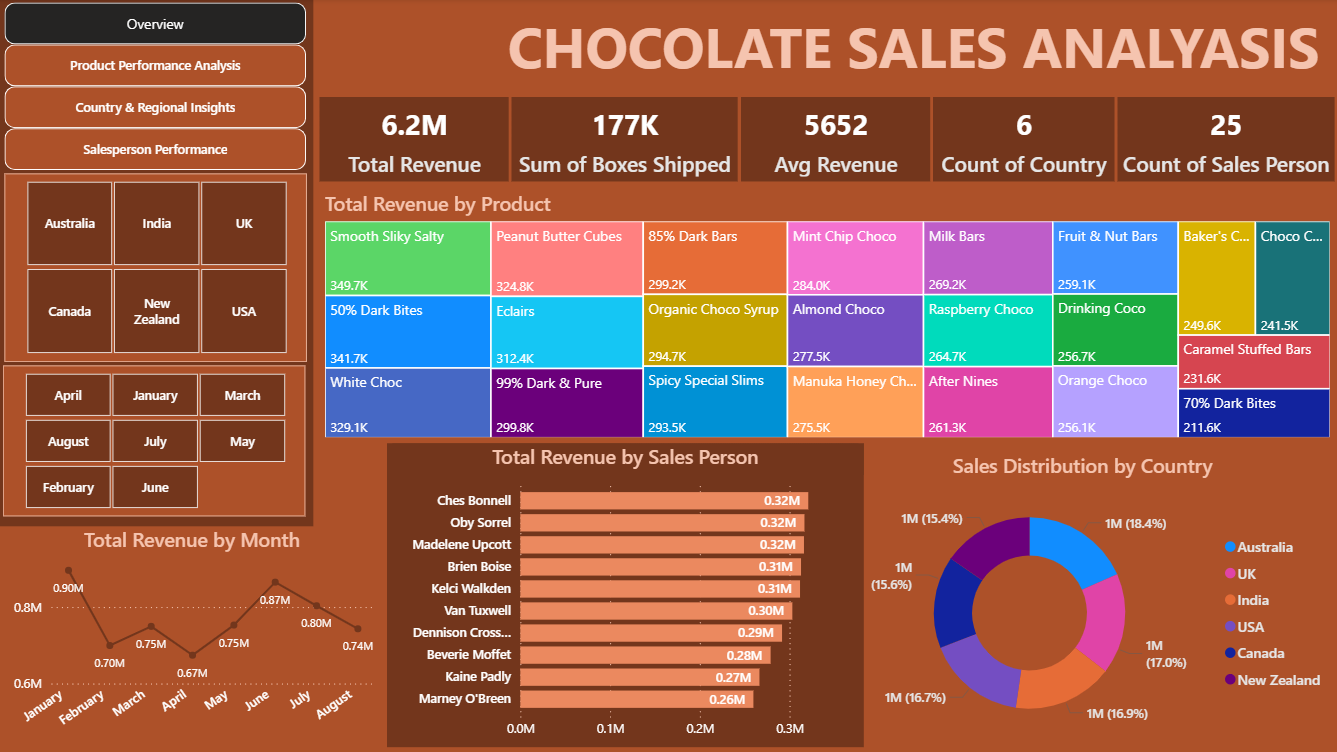

The page's visual inventory and layout, read from the dashboard file:
{"tool":"powerbi","page":{"name":"Overview","canvas":[1280,720],"ordinal":0},"visuals":[{"type":"card","fields":{"Values":["Chocolate Sales.Total Revenue"]},"box":[304.7,94.8,180.9,80.7],"z":0},{"type":"card","fields":{"Values":["Sum(Chocolate Sales.Boxes Shipped)"]},"box":[488.5,94.8,215.9,80.7],"z":1000},{"type":"card","fields":{"Values":["Chocolate Sales.Avg Revenue"]},"box":[707.4,94.8,180.9,80.7],"z":2000},{"type":"card","fields":{"Values":["Count(Chocolate Sales.Country)"]},"box":[891.2,94.8,173.1,80.7],"z":3000},{"type":"card","fields":{"Values":["Count(Chocolate Sales.Sales Person)"]},"box":[1067.3,94.8,207.2,80.7],"z":4000},{"type":"lineChart","fields":{"Category":["Chocolate Sales.Date.Variation.Date Hierarchy.Month"],"Y":["Chocolate Sales.Total Revenue"]},"box":[3.9,504.8,357.9,210.1],"z":5000},{"type":"donutChart","title":"Sales Distribution by Country","fields":{"Y":["Sum(Chocolate Sales.AMOUNT.1)"],"Category":["Chocolate Sales.Country"]},"box":[791.7,433.8,483.4,281.1],"z":6000},{"type":"barChart","fields":{"Category":["Chocolate Sales.Sales Person"],"Y":["Chocolate Sales.Total Revenue"]},"box":[369.6,425,455.2,289.8],"z":7000},{"type":"treemap","fields":{"Group":["Chocolate Sales.Product"],"Values":["Chocolate Sales.Total Revenue"]},"box":[305.4,183.8,969.7,241.2],"z":8000},{"type":"shape","box":[0,0,299.6,504.8],"z":11000},{"type":"pageNavigator","box":[3.9,4.9,288.9,160.5],"z":12000},{"type":"slicer","fields":{"Values":["Chocolate Sales.Country"]},"box":[3.9,168.3,288.9,179.9],"z":12500},{"type":"slicer","fields":{"Values":["Chocolate Sales.Month"]},"box":[3,351.1,288.9,144],"z":13500},{"type":"textbox","box":[480.4,4.8,796,90],"z":13501}]}

Visuals, with their boxes in screenshot pixels (x1, y1, x2, y2), scaled from the page's 1280x720 canvas onto the 1337x752 screenshot:
card - Chocolate Sales.Total Revenue: <box>318,99,507,183</box>
card - Sum(Chocolate Sales.Boxes Shipped): <box>510,99,736,183</box>
card - Chocolate Sales.Avg Revenue: <box>739,99,928,183</box>
card - Count(Chocolate Sales.Country): <box>931,99,1112,183</box>
card - Count(Chocolate Sales.Sales Person): <box>1115,99,1331,183</box>
lineChart - Chocolate Sales.Date.Variation.Date Hierarchy.Month x Chocolate Sales.Total Revenue: <box>4,527,378,747</box>
"Sales Distribution by Country" donutChart: <box>827,453,1332,747</box>
barChart - Chocolate Sales.Sales Person x Chocolate Sales.Total Revenue: <box>386,444,862,747</box>
treemap - Chocolate Sales.Product x Chocolate Sales.Total Revenue: <box>319,192,1332,444</box>
shape: <box>0,0,313,527</box>
pageNavigator: <box>4,5,306,173</box>
slicer - Chocolate Sales.Country: <box>4,176,306,364</box>
slicer - Chocolate Sales.Month: <box>3,367,305,517</box>
textbox: <box>502,5,1333,99</box>
